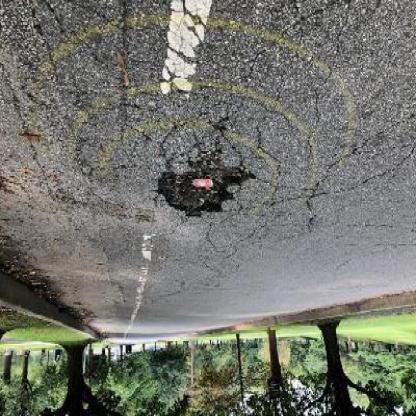pothole: (153, 161, 256, 222)
